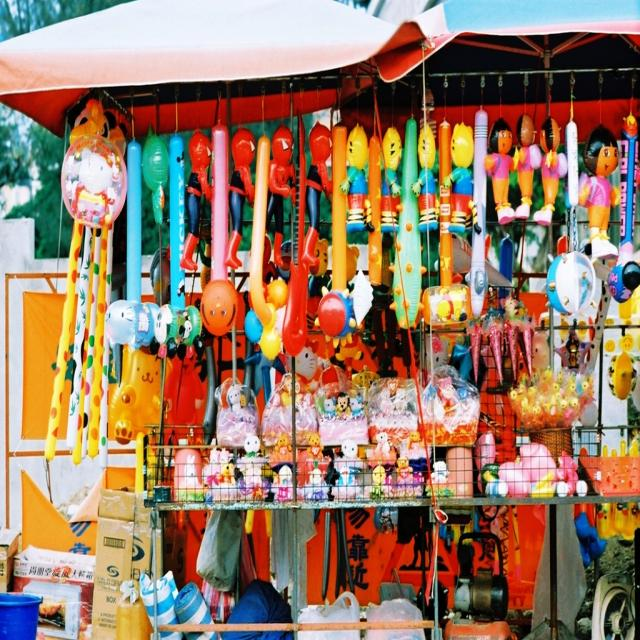Toy: (35, 109, 640, 527)
